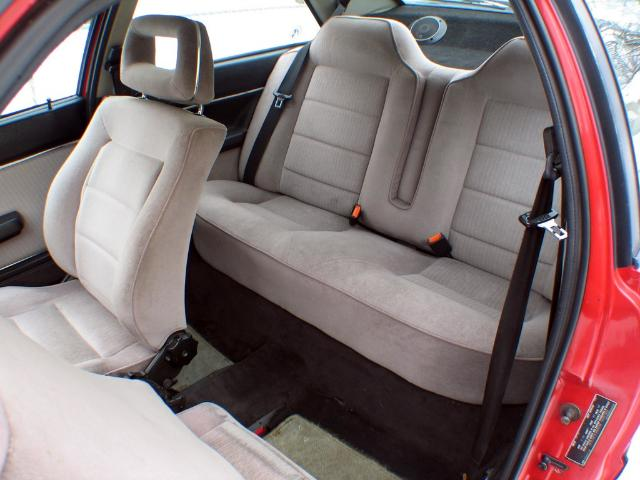Seatbelt: (470, 169, 570, 472), (240, 42, 316, 181)
